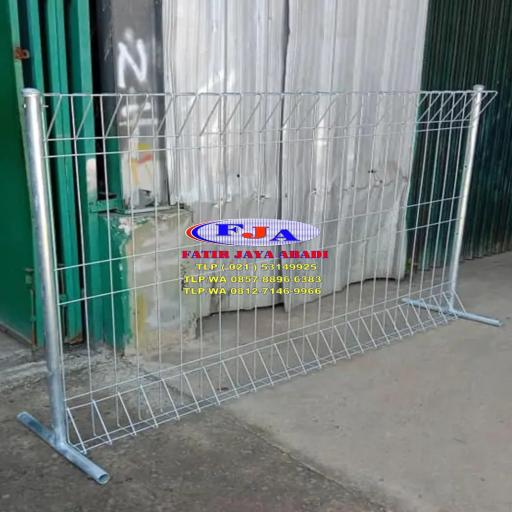bus_stop: (18, 86, 500, 483)
